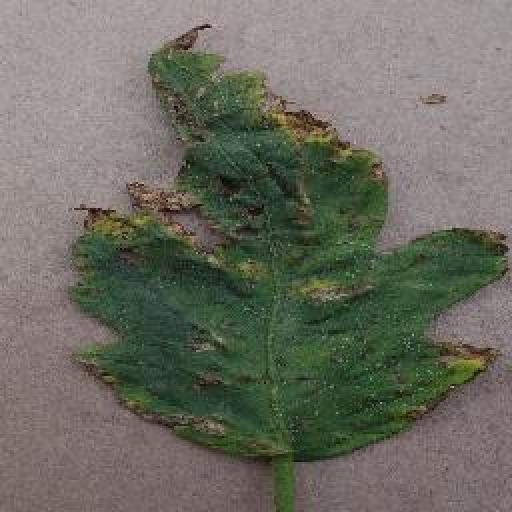Bacterial Spot: (62, 10, 512, 460)
